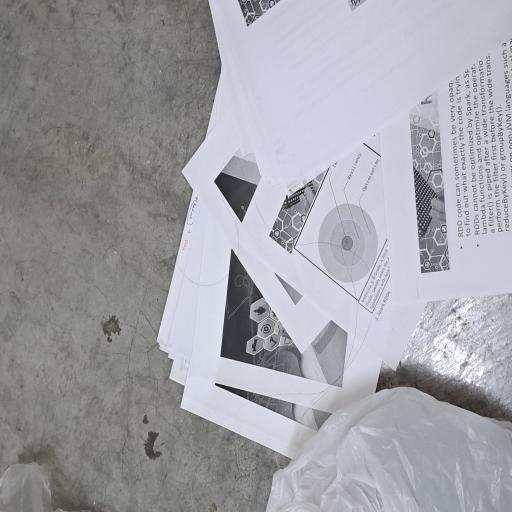paper: (43, 208, 383, 512)
plastic bag: (0, 356, 96, 512)
